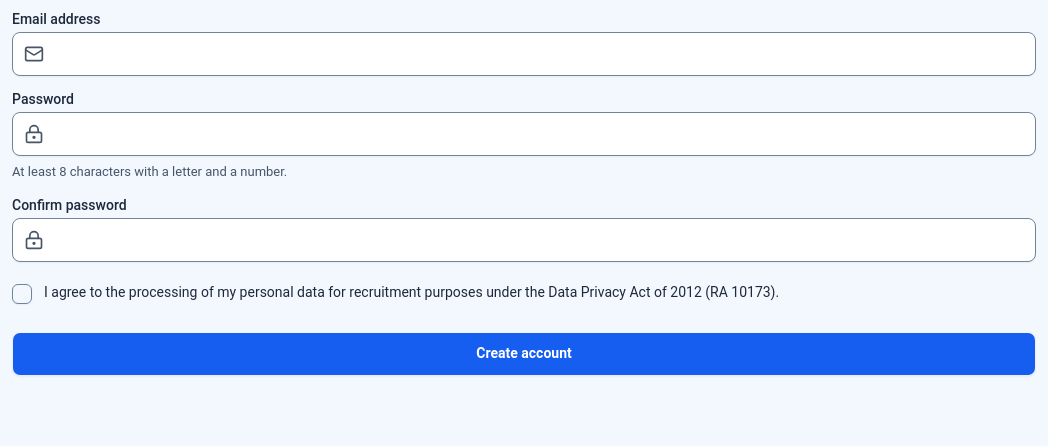
it: SignUpForm › shows a readable message when Supabase refuses
This screenshot has width=1048, height=446.
Type "ana@example.com" into the field labelled "Email address" at [524, 54], box [12, 32, 1036, 76]
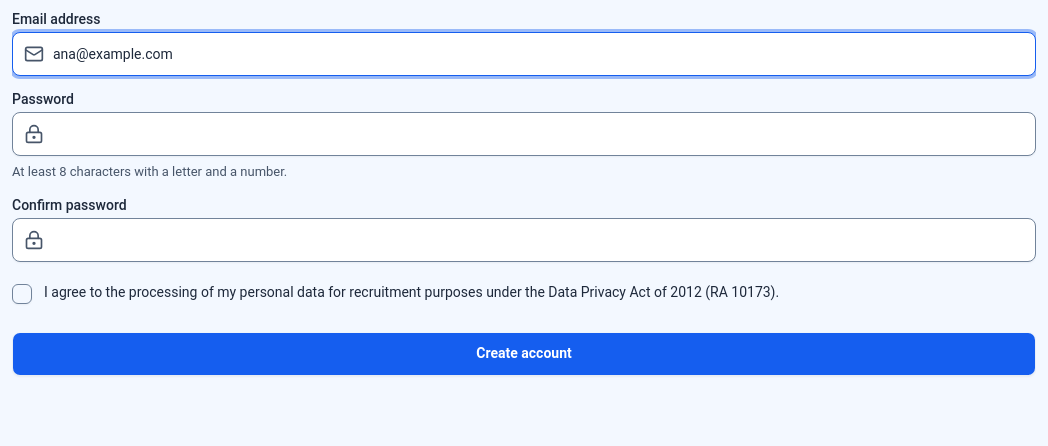
Type "Secret123" into the password field labelled "Password" at [524, 134], box [12, 112, 1036, 156]
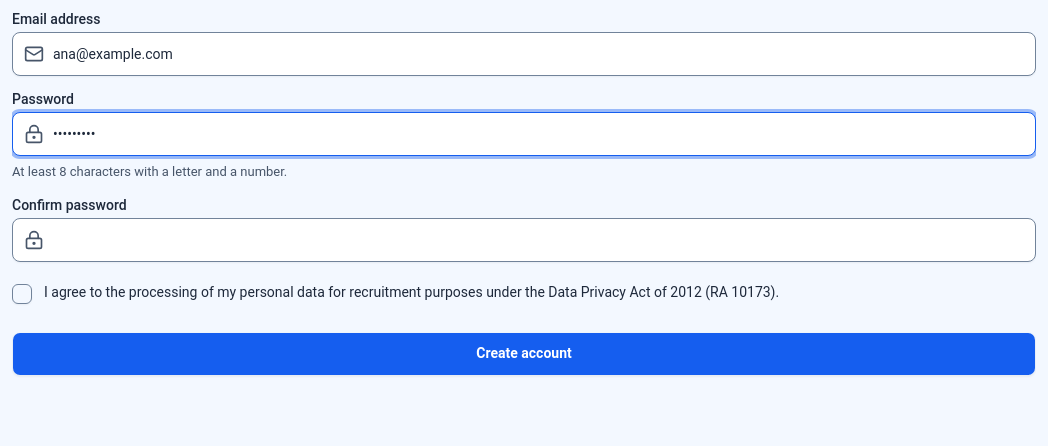
Type "Secret123" into the password field labelled "Confirm password" at [524, 240], box [12, 218, 1036, 262]
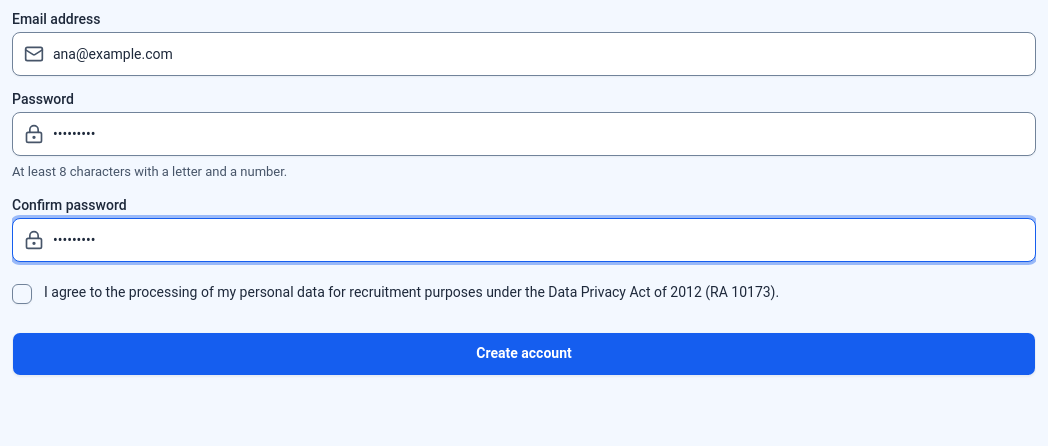
Click the checkbox at [22, 294], box [12, 284, 32, 304]
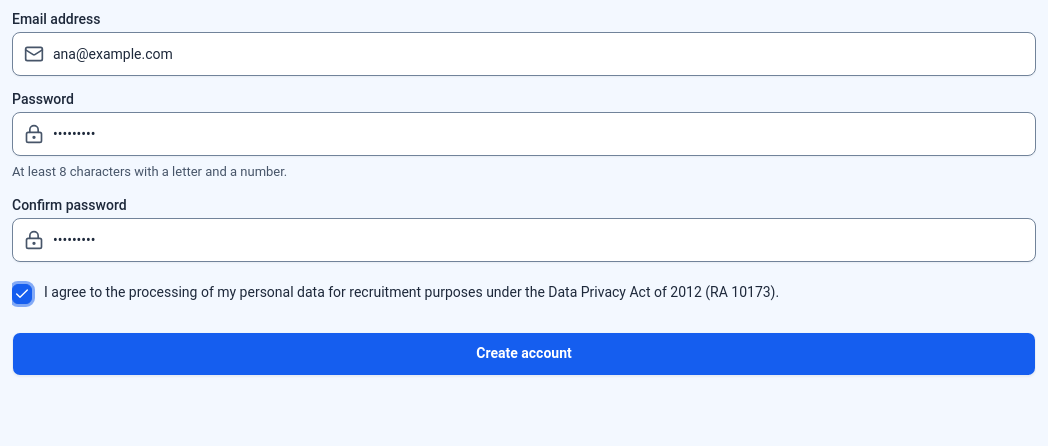
Click the button "Create account" at [524, 354], box [12, 332, 1036, 376]
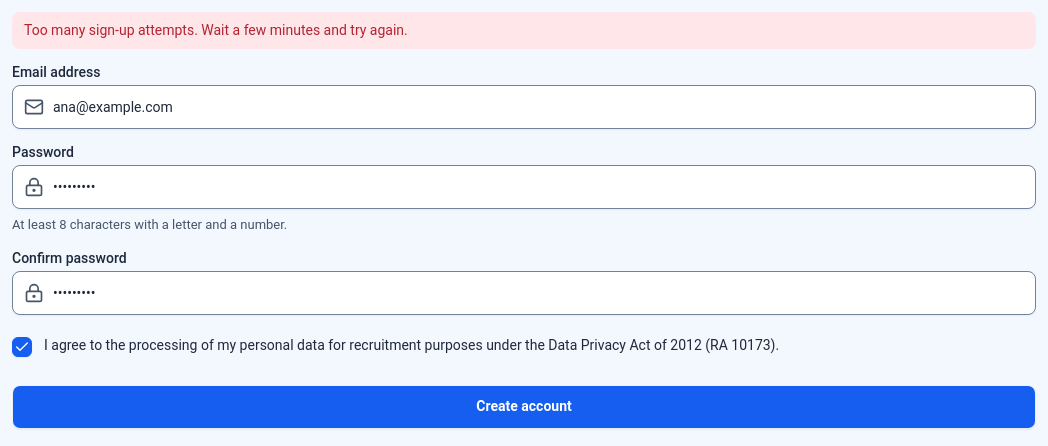
Result: the message shows "Too many sign-up attempts" at [24, 22, 408, 38]
